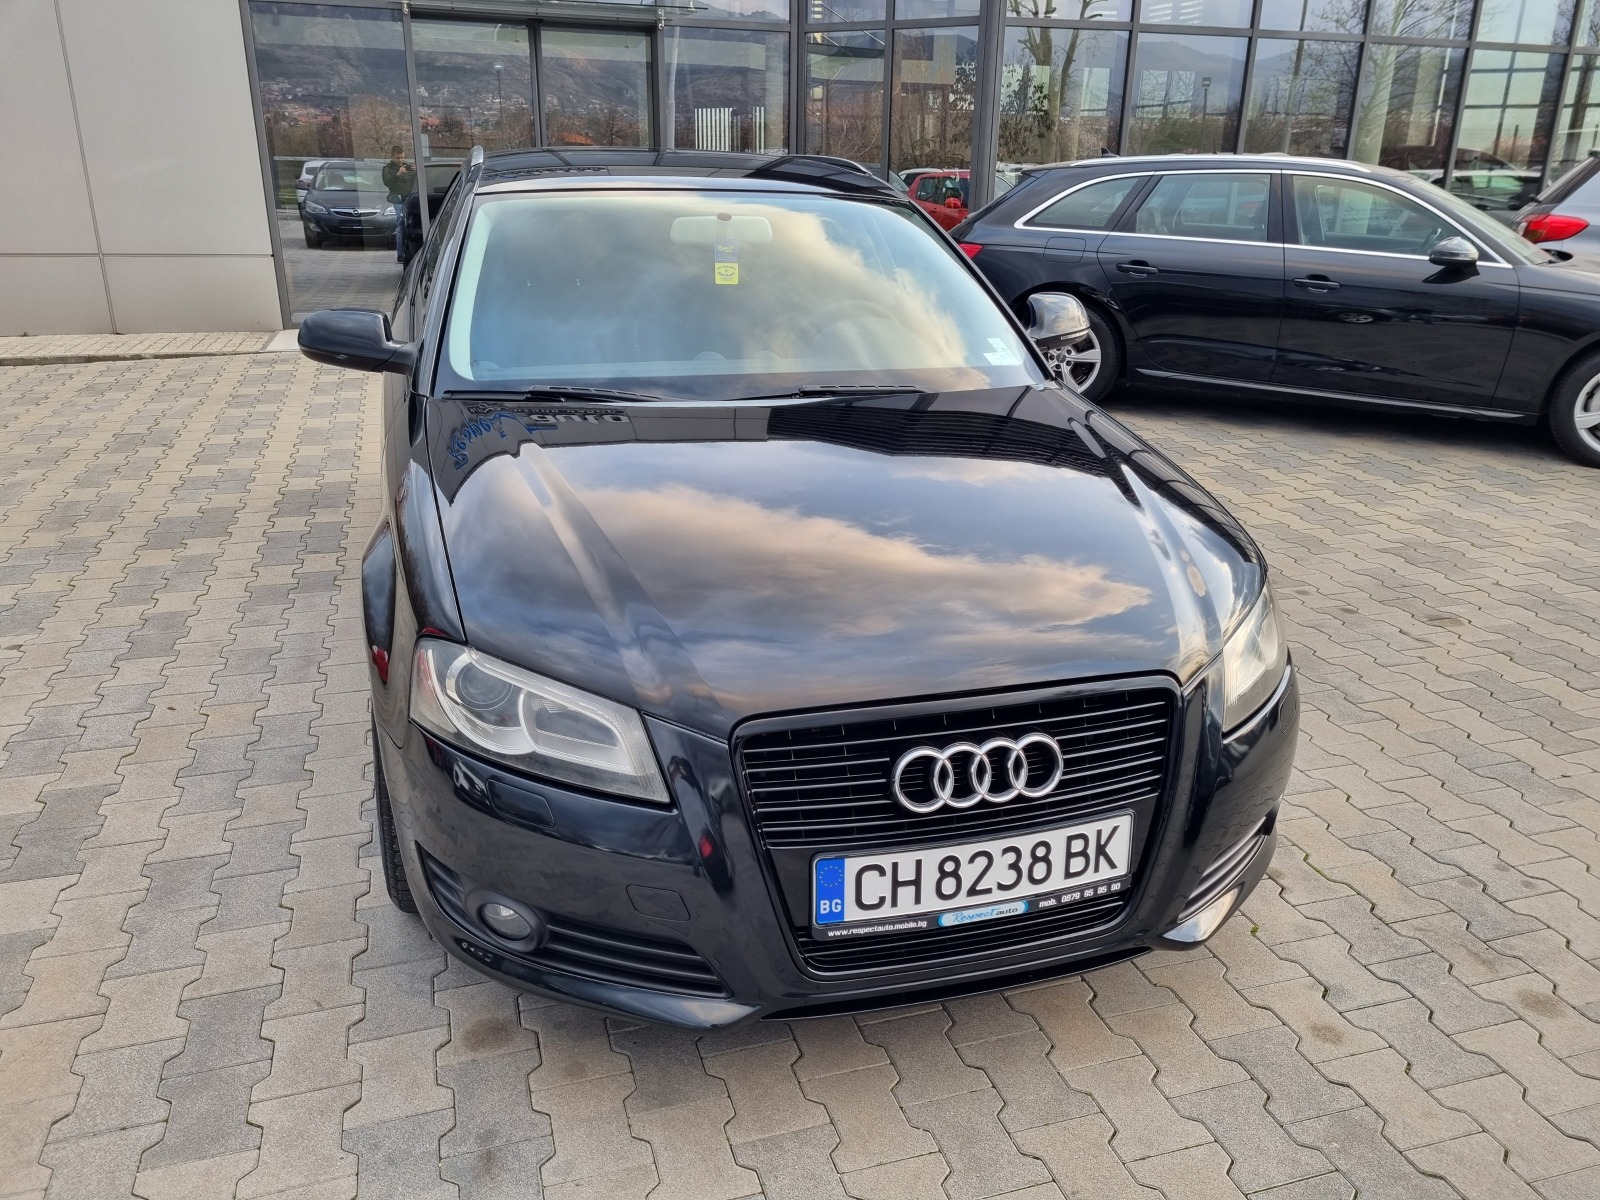registration_plate: (817, 819, 1134, 940)
